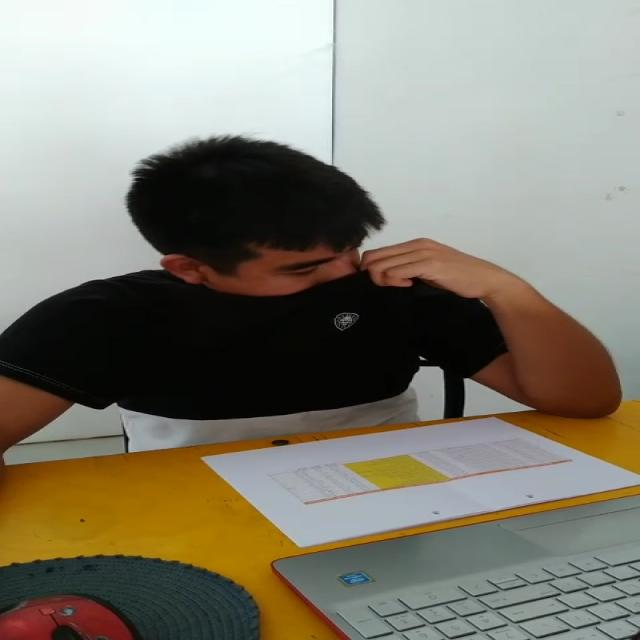8_ropa_rostro: (120, 260, 465, 348)
